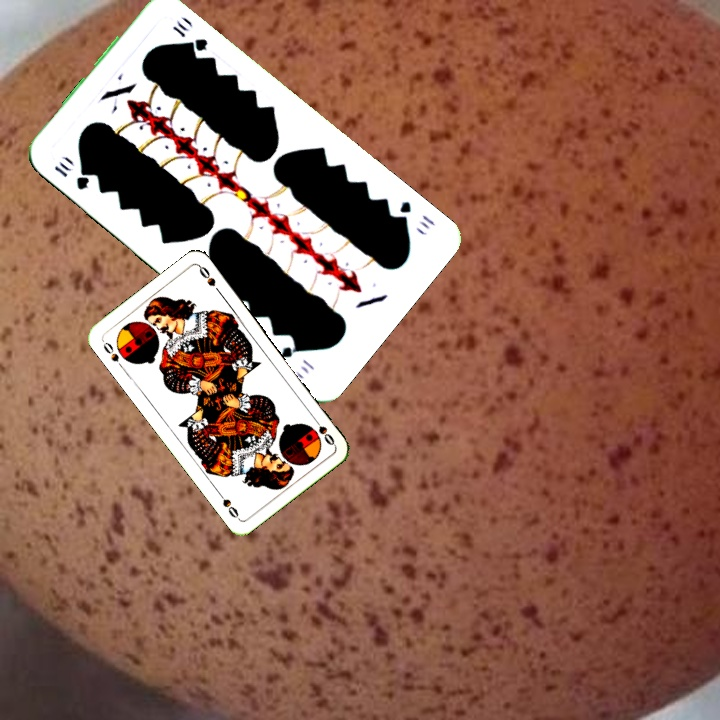G10: (392, 197, 438, 233), (50, 158, 92, 193)
SO: (308, 413, 337, 448), (98, 336, 126, 372)
